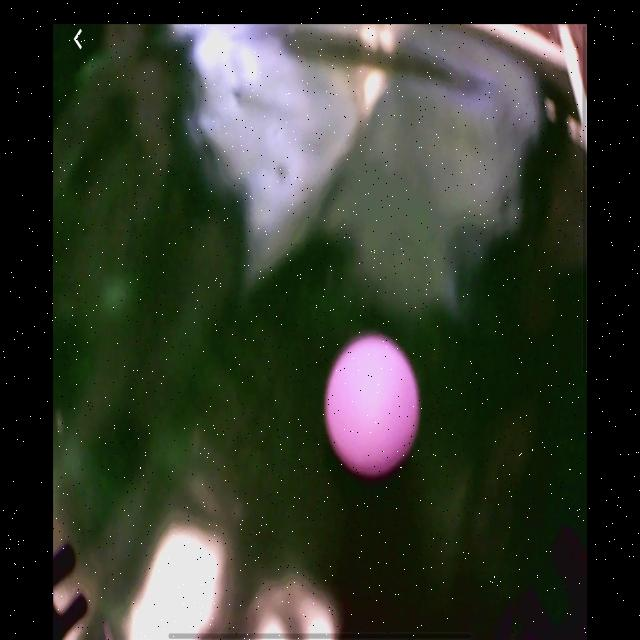ball: (326, 332, 421, 479)
